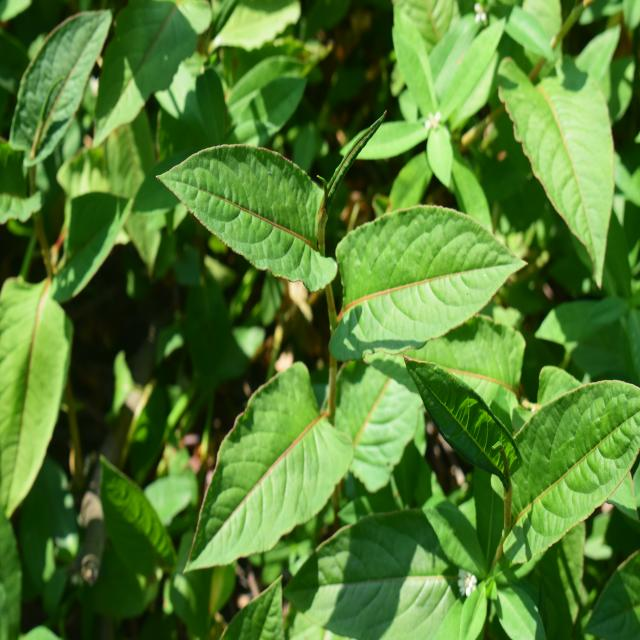Chinese_knotweed: (159, 135, 504, 530)
